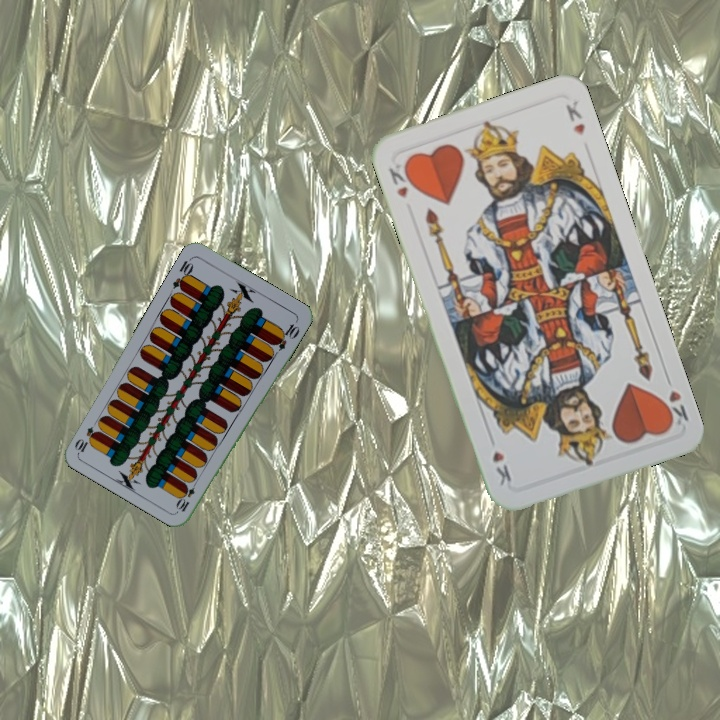E10: (169, 254, 196, 293), (173, 476, 200, 514)
HK: (657, 370, 691, 431), (384, 158, 417, 201)
